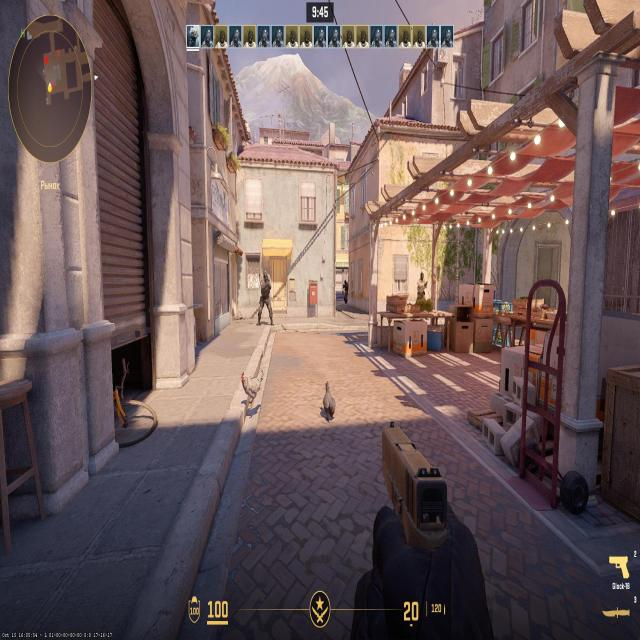CT: (262, 271, 270, 318), (344, 280, 348, 301)
CT_heat: (264, 273, 267, 280), (345, 281, 347, 284)
T: (419, 272, 425, 305)
T_heat: (421, 274, 424, 280)
